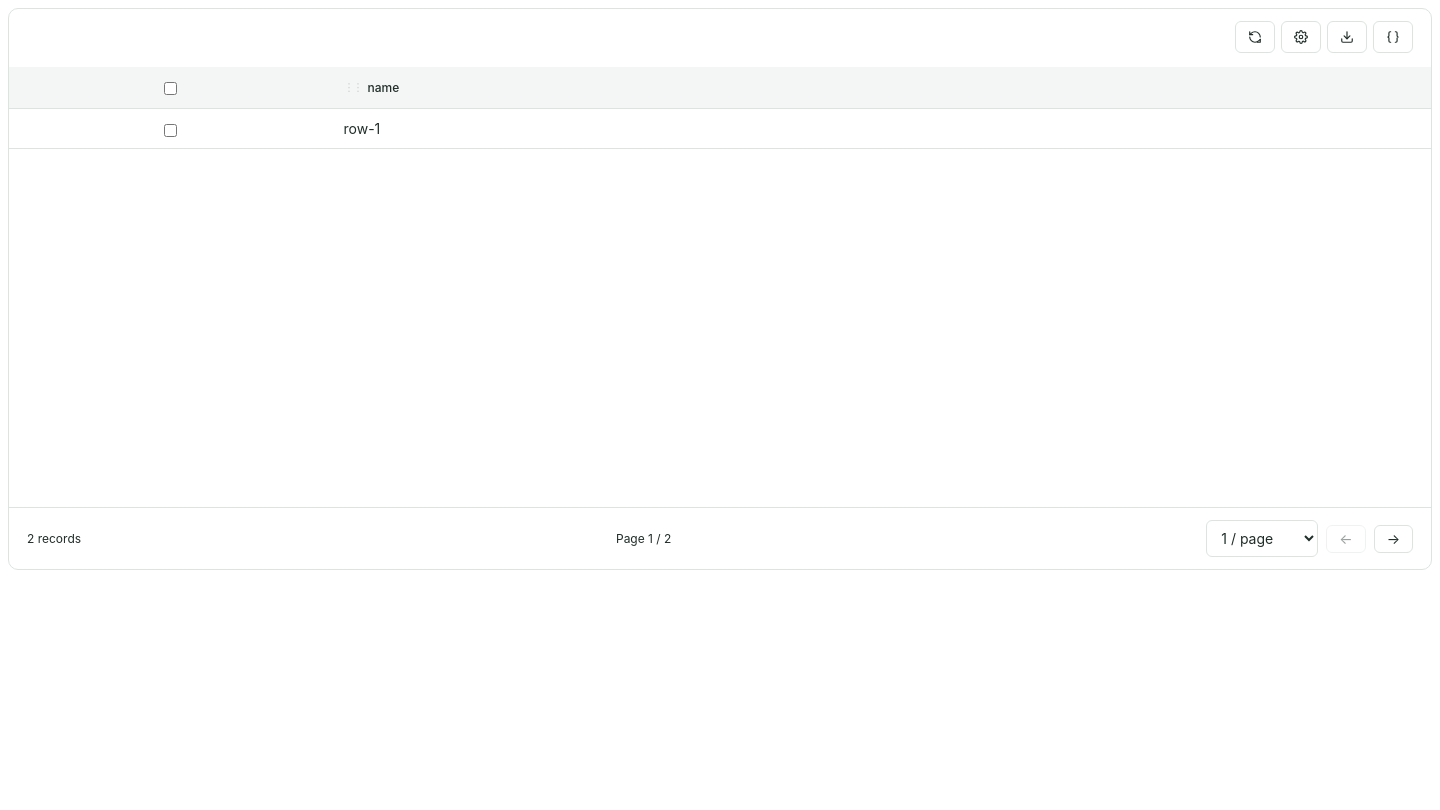
Test case: remote selected rows survive page changes
Check: the text "row-1" is shown, box [344,120,380,137]
Click the checkbox named "Select row 1".
click(170, 130)  # box [164,124,177,137]
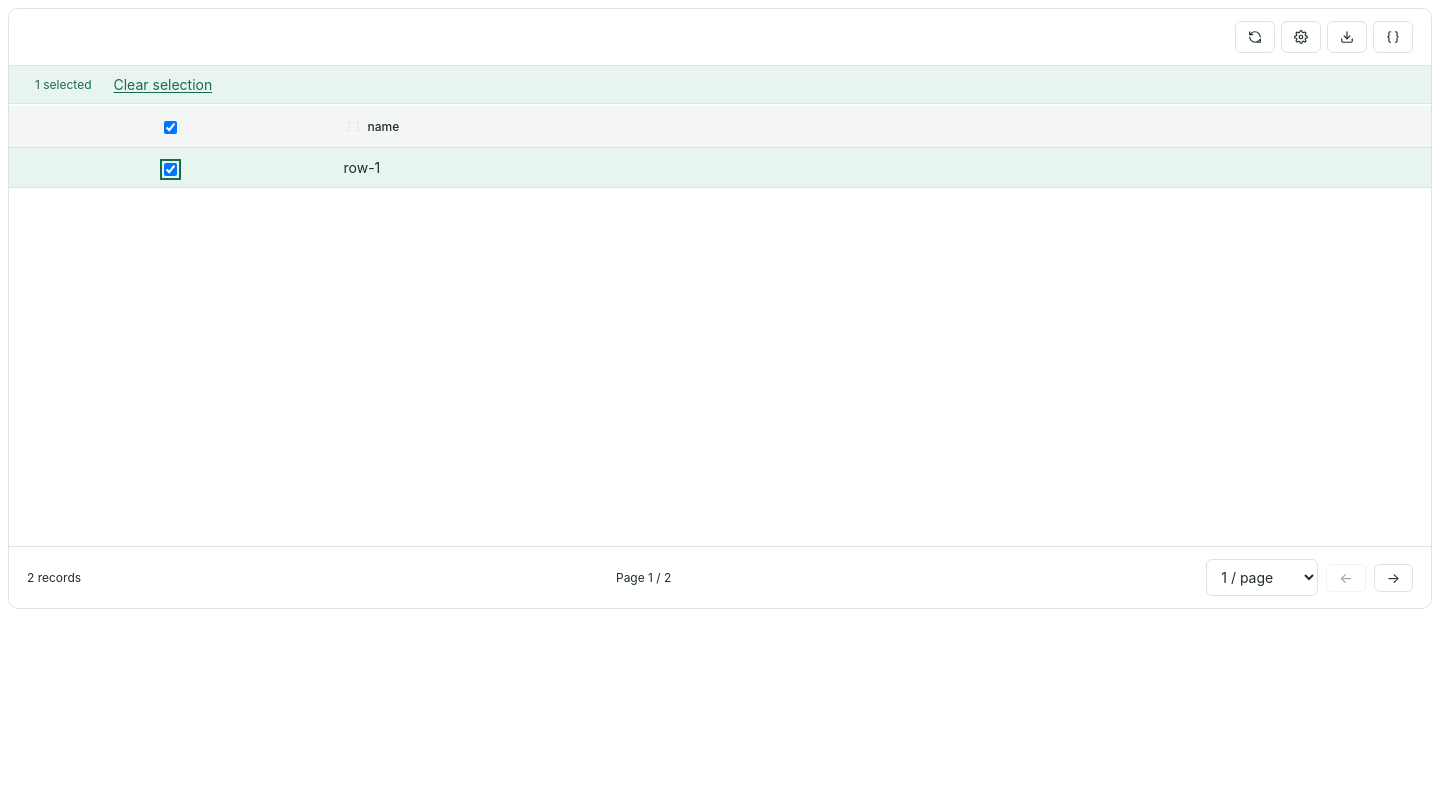
Click the button named "Next page".
click(1393, 578)  # box [1374,564,1413,592]
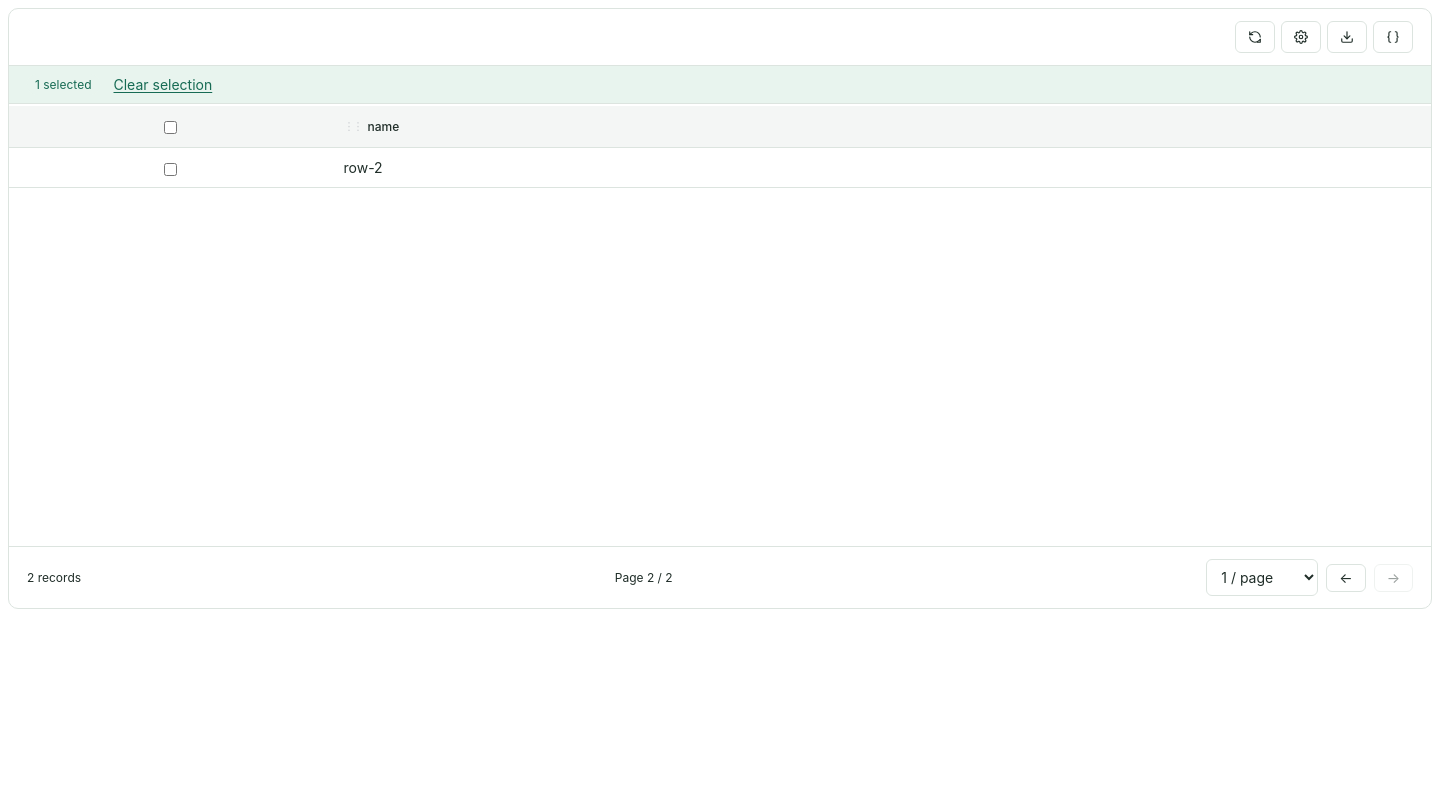
Check: the text "1 selected" is shown, box [27,74,100,95]
Check: the text "row-2" is shown, box [344,159,383,176]
